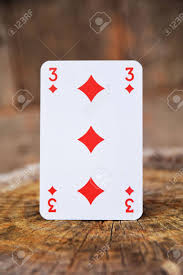three of diamonds: (38, 58, 143, 220)
